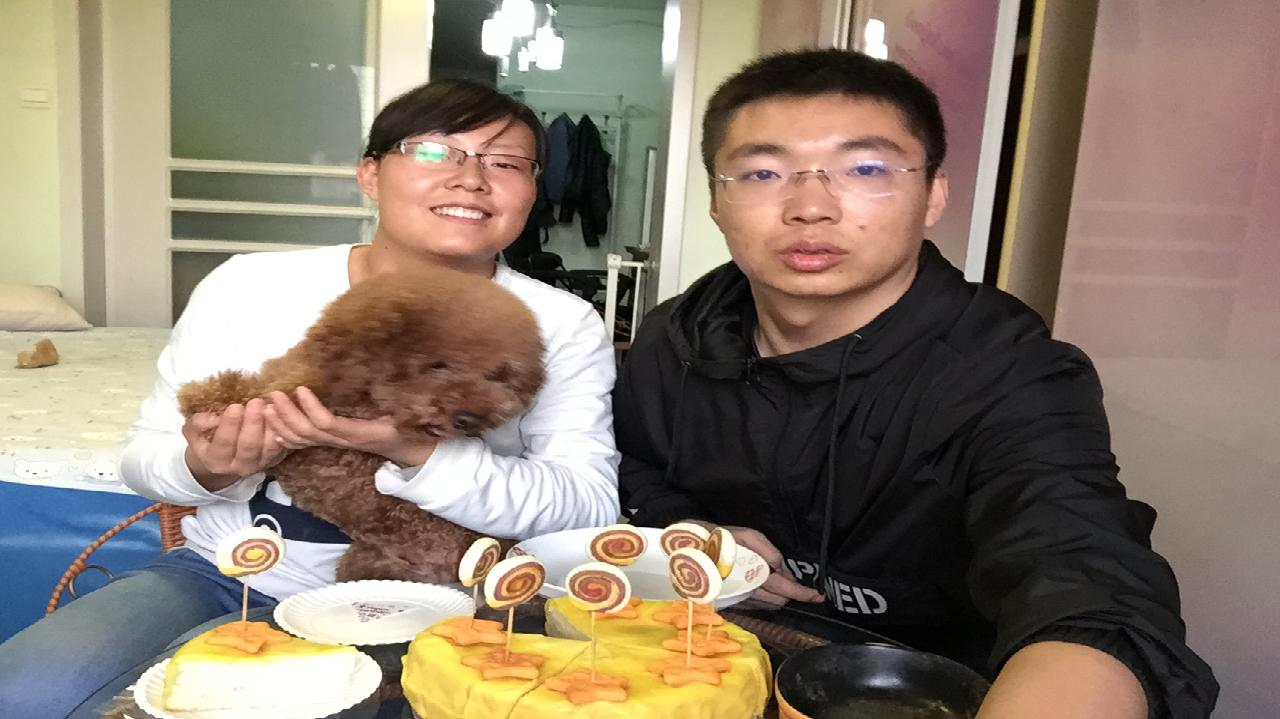zhuangzhuang: (176, 275, 551, 569)
